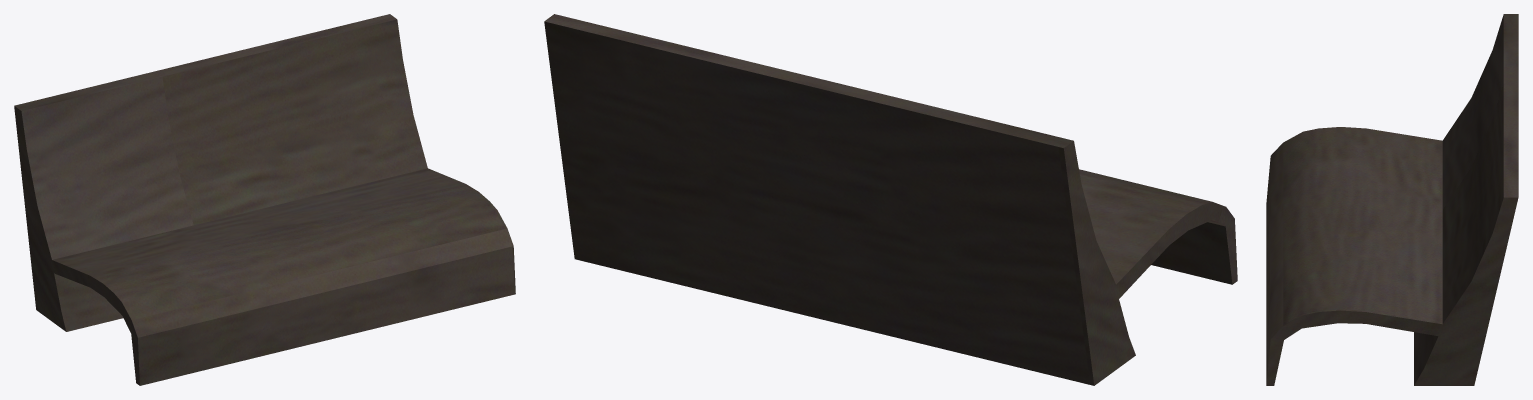
The model's file is Bench.fbx.
3 renders of one model, left to right at view 1: azimuth 30°, elevation 25°; view 2: azimuth 150°, elevation 25°; view 3: azimuth 270°, elevation 25°, orthographic. The views are drawn at different scales.
Parts seen in each view (by area): view 1: Bench; view 2: Bench; view 3: Bench.
Boxes of the visible parts, box(x1,y1,x2,y2) form: Bench: box(14, 14, 515, 385); Bench: box(544, 14, 1237, 385); Bench: box(1266, 14, 1518, 385).
Bounding box in the file's own units: 33.03 × 15.8 × 19.16.
